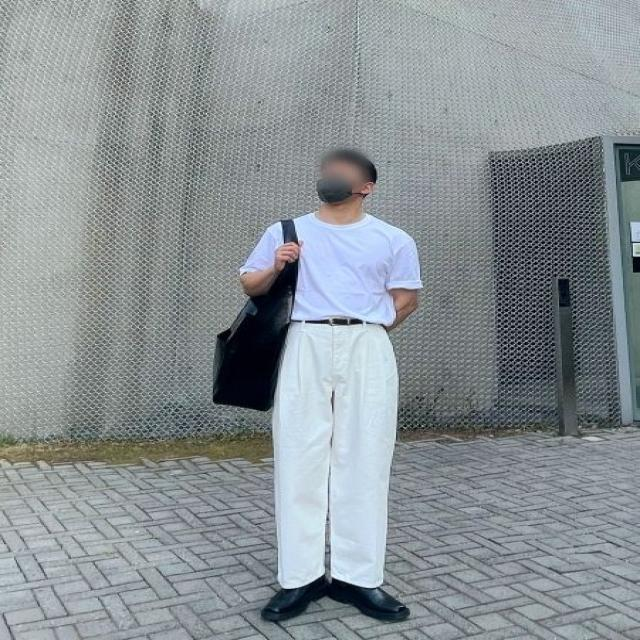cottonpants: (268, 316, 400, 586)
shortsleeve: (241, 203, 421, 326)
